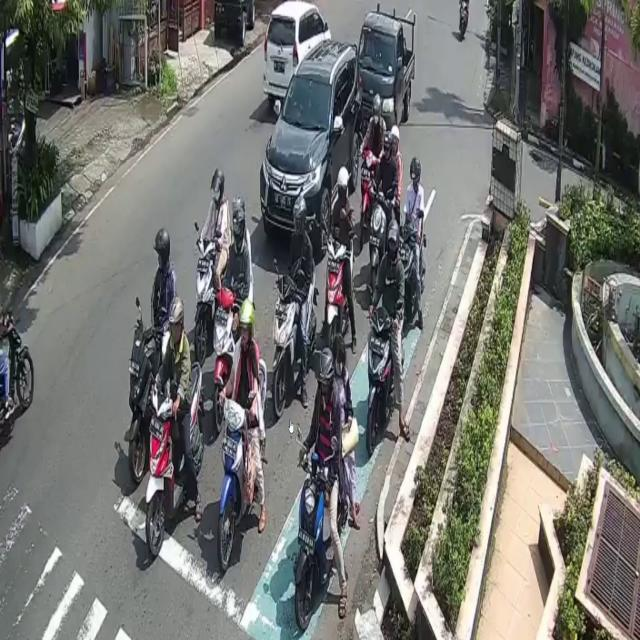car: (261, 38, 363, 250), (356, 11, 414, 138), (263, 0, 331, 94)
motorbike: (147, 360, 203, 562), (220, 356, 268, 562), (272, 264, 316, 432), (128, 321, 162, 487), (300, 450, 331, 631), (365, 307, 394, 459), (1, 307, 35, 430), (194, 226, 216, 357), (327, 240, 352, 349)
